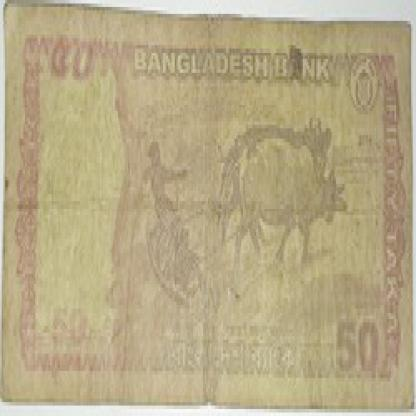Fifty taka: (328, 312, 389, 385), (30, 31, 73, 94)
